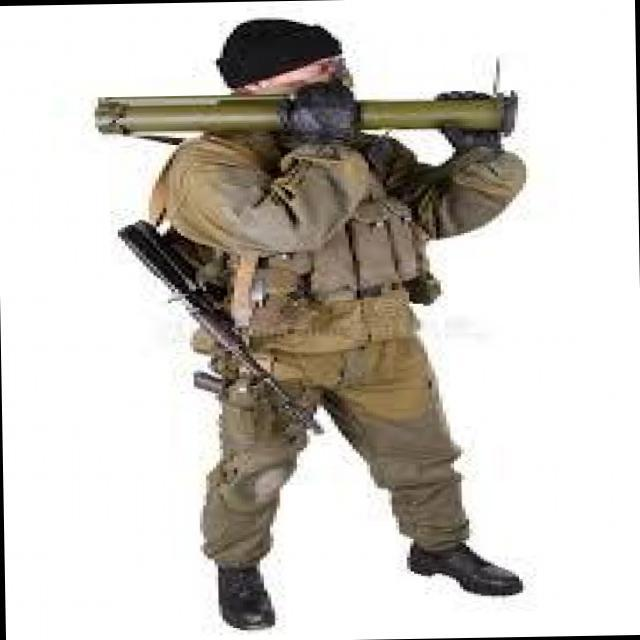rocket: (94, 86, 525, 158)
